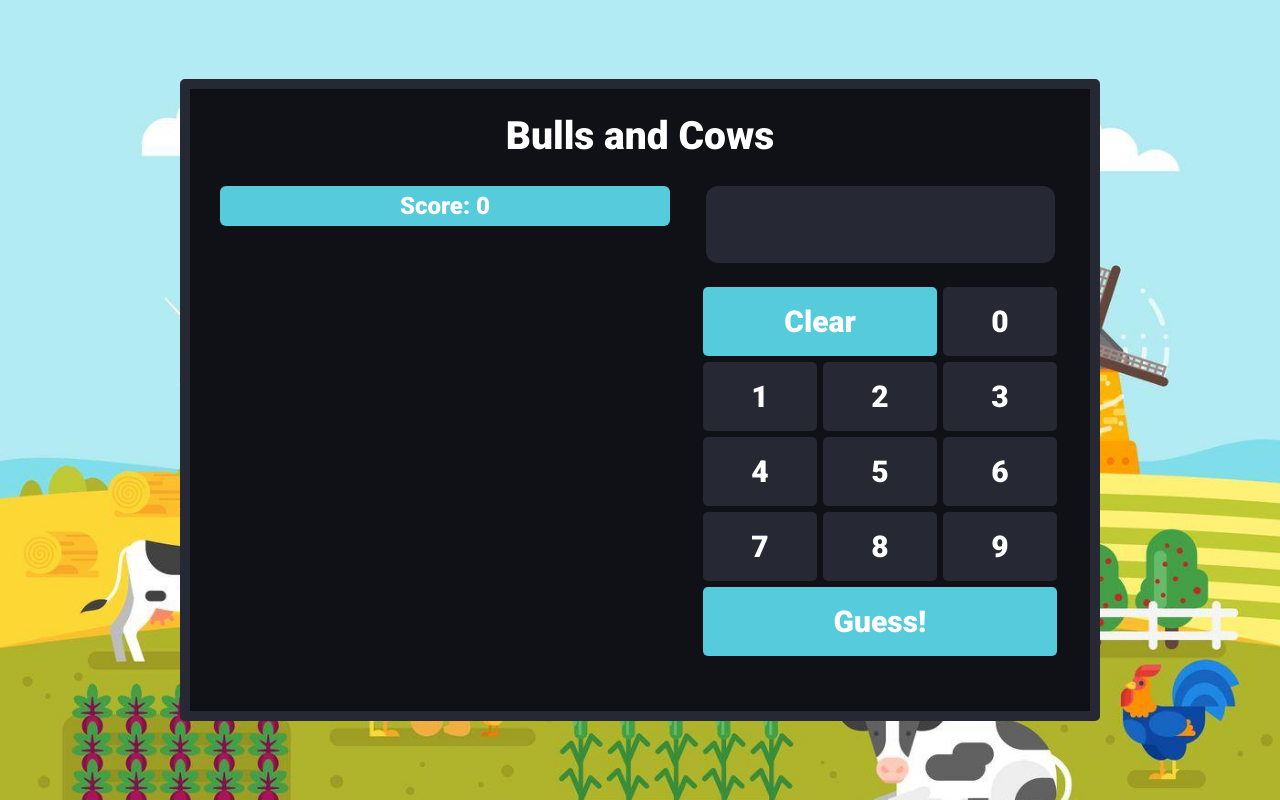
Test: Renders the inputed numbers › should render inputted numbers
Click the button "1" at (760,396), box [703,362,817,431]
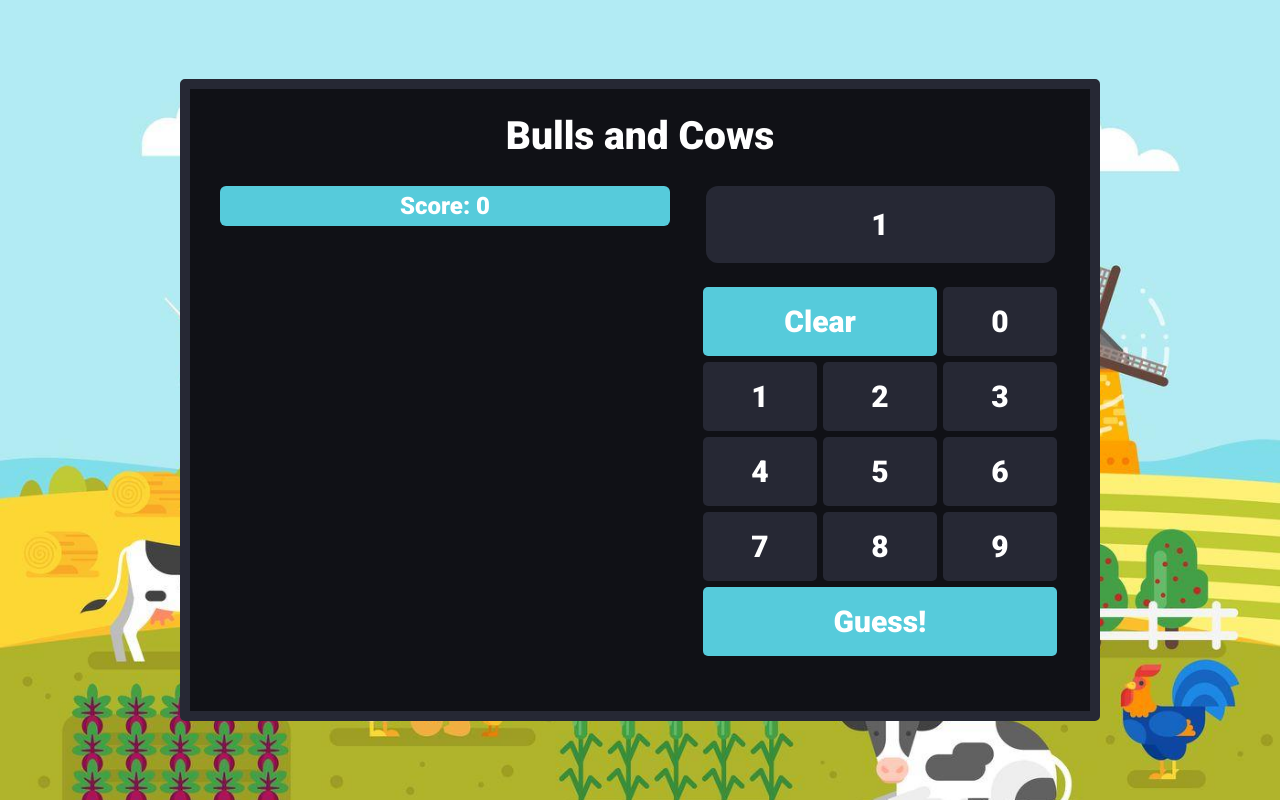
Click the button "2" at (880,396), box [823,362,937,431]
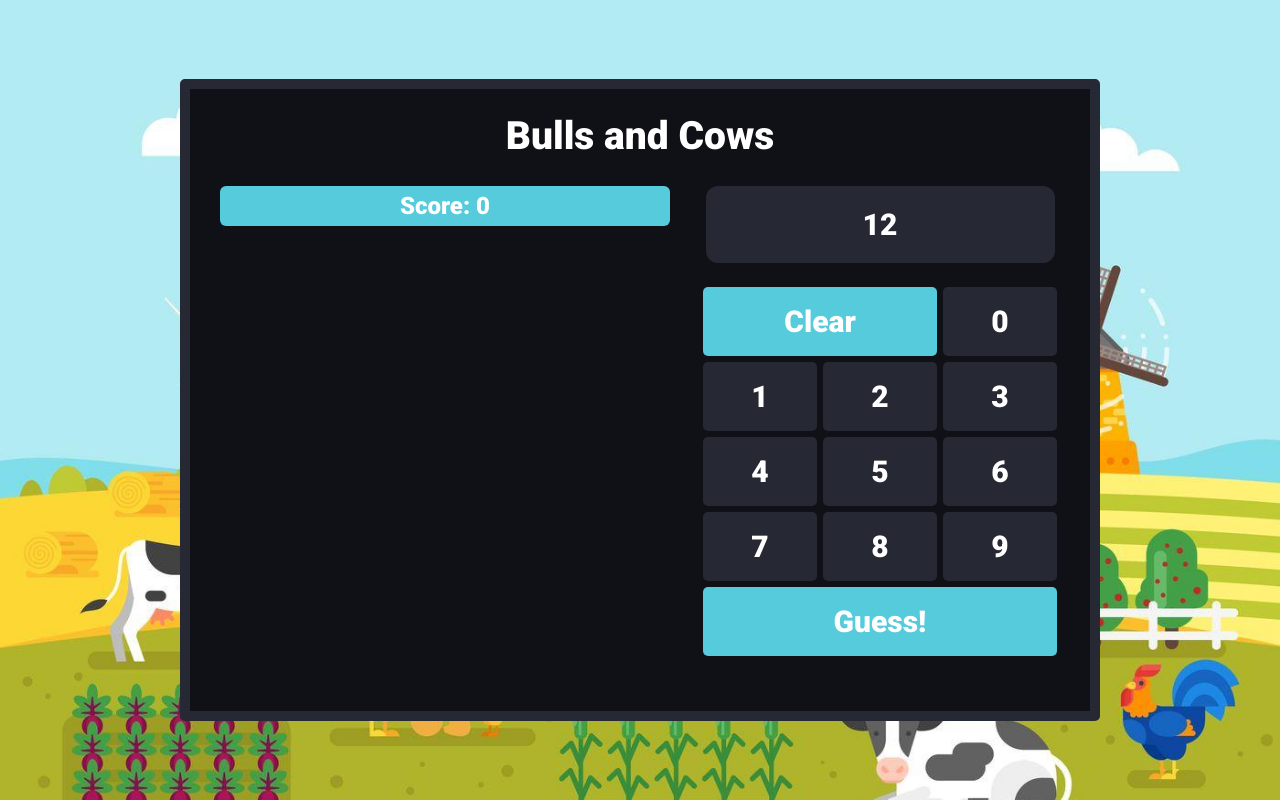
Click the button "3" at (1000,396), box [943,362,1057,431]
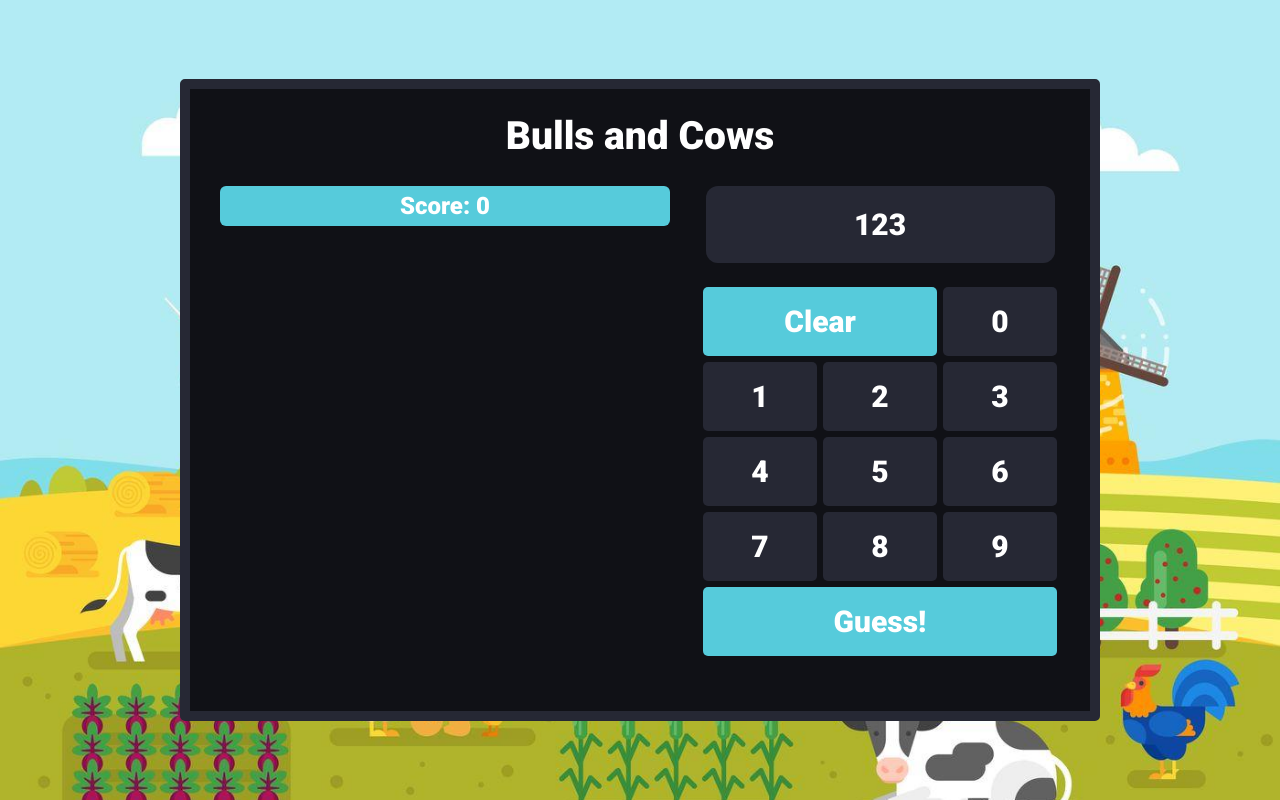
Click the button "4" at (760,472), box [703,437,817,506]
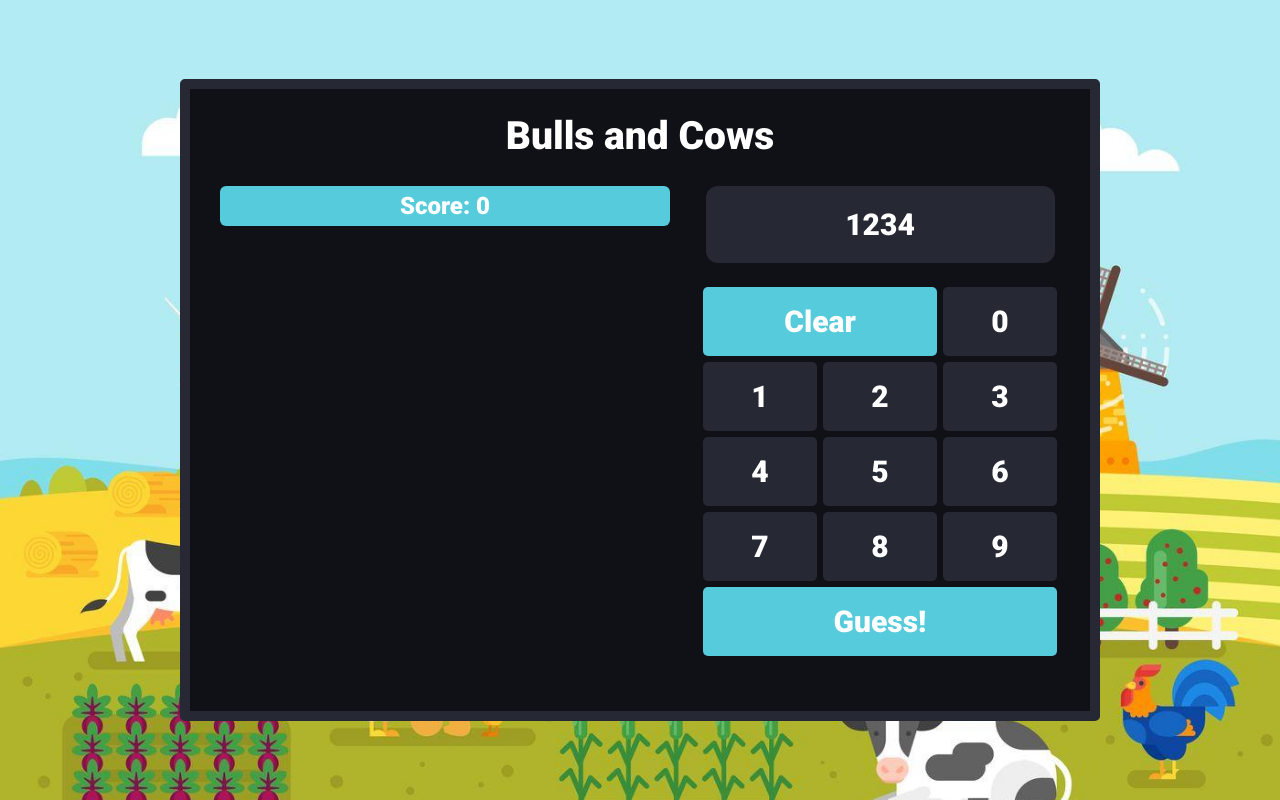
Expected: the field holds "1234", [706,186,1054,263]
